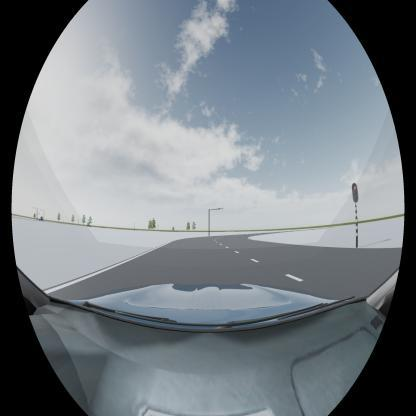Red Light: (352, 182, 358, 203)
